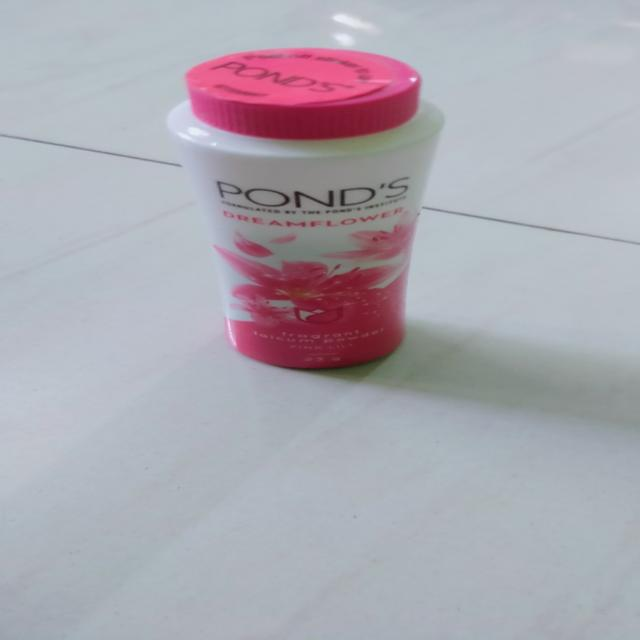powder: (164, 55, 443, 378)
